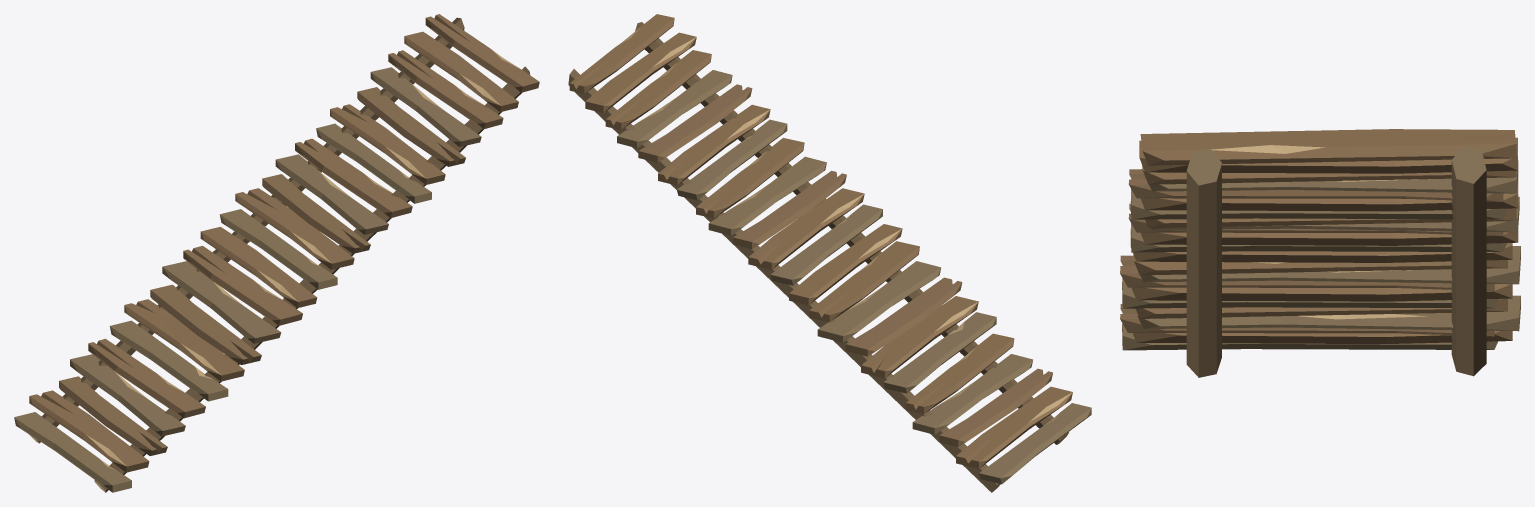
File: rpgpp_ag_wall_platform_stairs_01a_4m.fbx
The picture shows the model from 3 angles, left to right: view 1: azimuth 30°, elevation 25°; view 2: azimuth 150°, elevation 25°; view 3: azimuth 270°, elevation 25°; orthographic projection. The views are drawn at different scales.
Visible parts, largest first — view 1: rpgpp_ag_wall_platform_stairs_01a_4m; view 2: rpgpp_ag_wall_platform_stairs_01a_4m; view 3: rpgpp_ag_wall_platform_stairs_01a_4m.
Boxes of the visible parts, left/top/right/bottom form: rpgpp_ag_wall_platform_stairs_01a_4m: left=14, top=14, right=539, bottom=492; rpgpp_ag_wall_platform_stairs_01a_4m: left=568, top=14, right=1091, bottom=492; rpgpp_ag_wall_platform_stairs_01a_4m: left=1120, top=129, right=1520, bottom=377.
Size of the model in its own units: 5.78 by 4.04 by 2.29.
